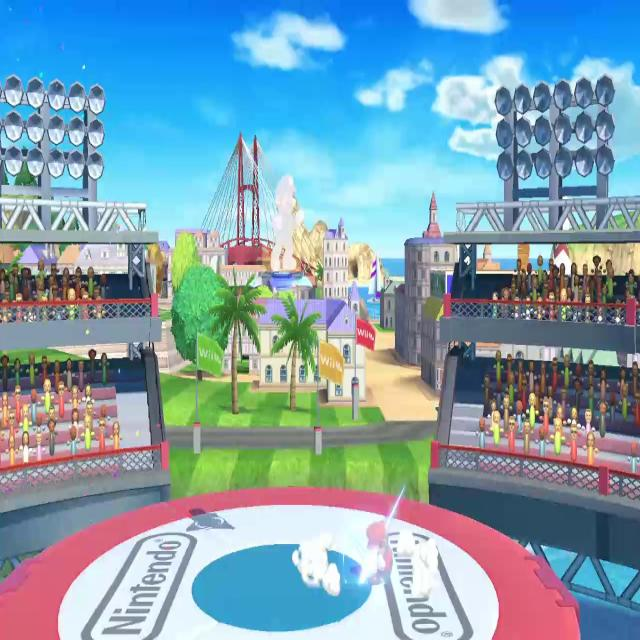Mario: (268, 169, 306, 277)
Mario-Sa: (361, 517, 398, 593)
